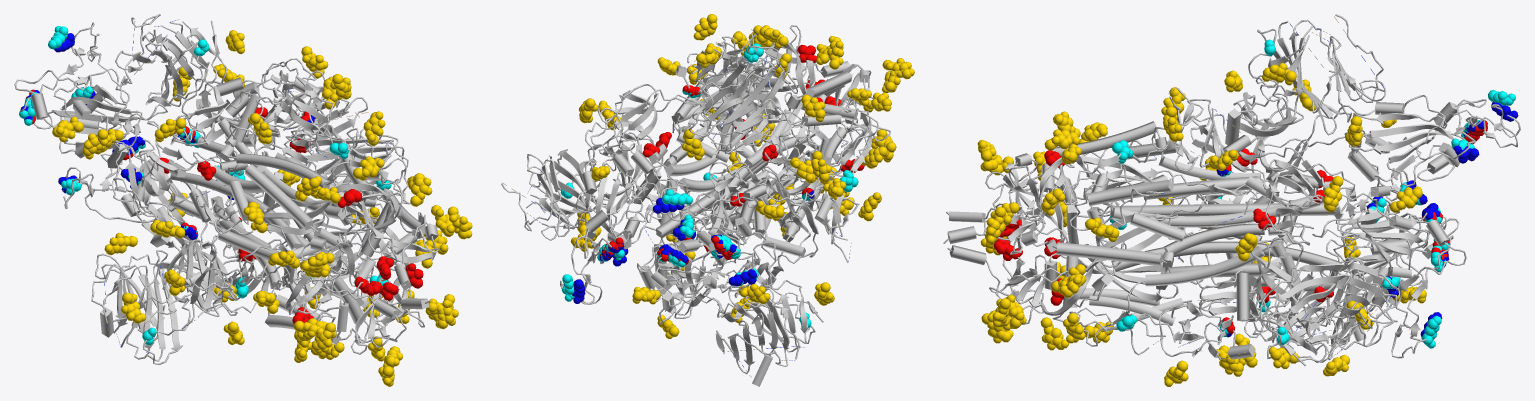
The model's file is spike2.glb.
3 renders of one model, left to right at view 1: azimuth 30°, elevation 25°; view 2: azimuth 150°, elevation 25°; view 3: azimuth 270°, elevation 25°, orthographic. The views are drawn at different scales.
Visible parts, largest first — view 1: ribbons, atoms (×3); view 2: ribbons, atoms (×3); view 3: ribbons, atoms (×3).
Part boxes in pixels (x1,y1,x2,y2): ribbons: [14, 14, 438, 364]; atoms (×3): [19, 26, 472, 386]; ribbons: [501, 25, 890, 386]; atoms (×3): [560, 14, 914, 338]; ribbons: [943, 14, 1520, 365]; atoms (×3): [977, 39, 1518, 386].
Bounding box in the file's own units: 118 × 115 × 178.
